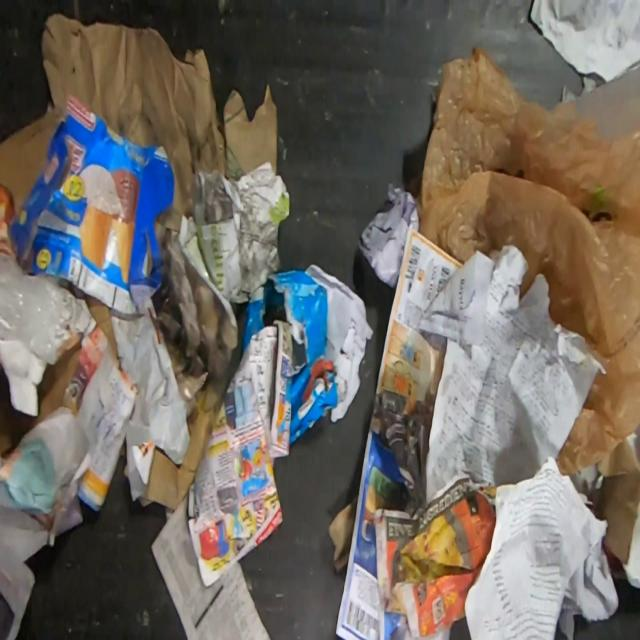cardboard: (8, 92, 175, 316), (0, 106, 59, 214), (268, 268, 328, 374), (36, 331, 84, 423), (145, 447, 178, 511)
soft_plastic: (414, 45, 640, 479), (0, 253, 76, 367)
